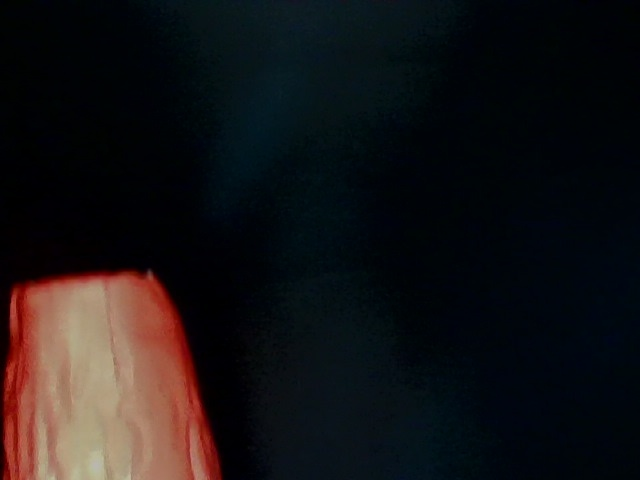YHLJ: (360, 1, 423, 99)
